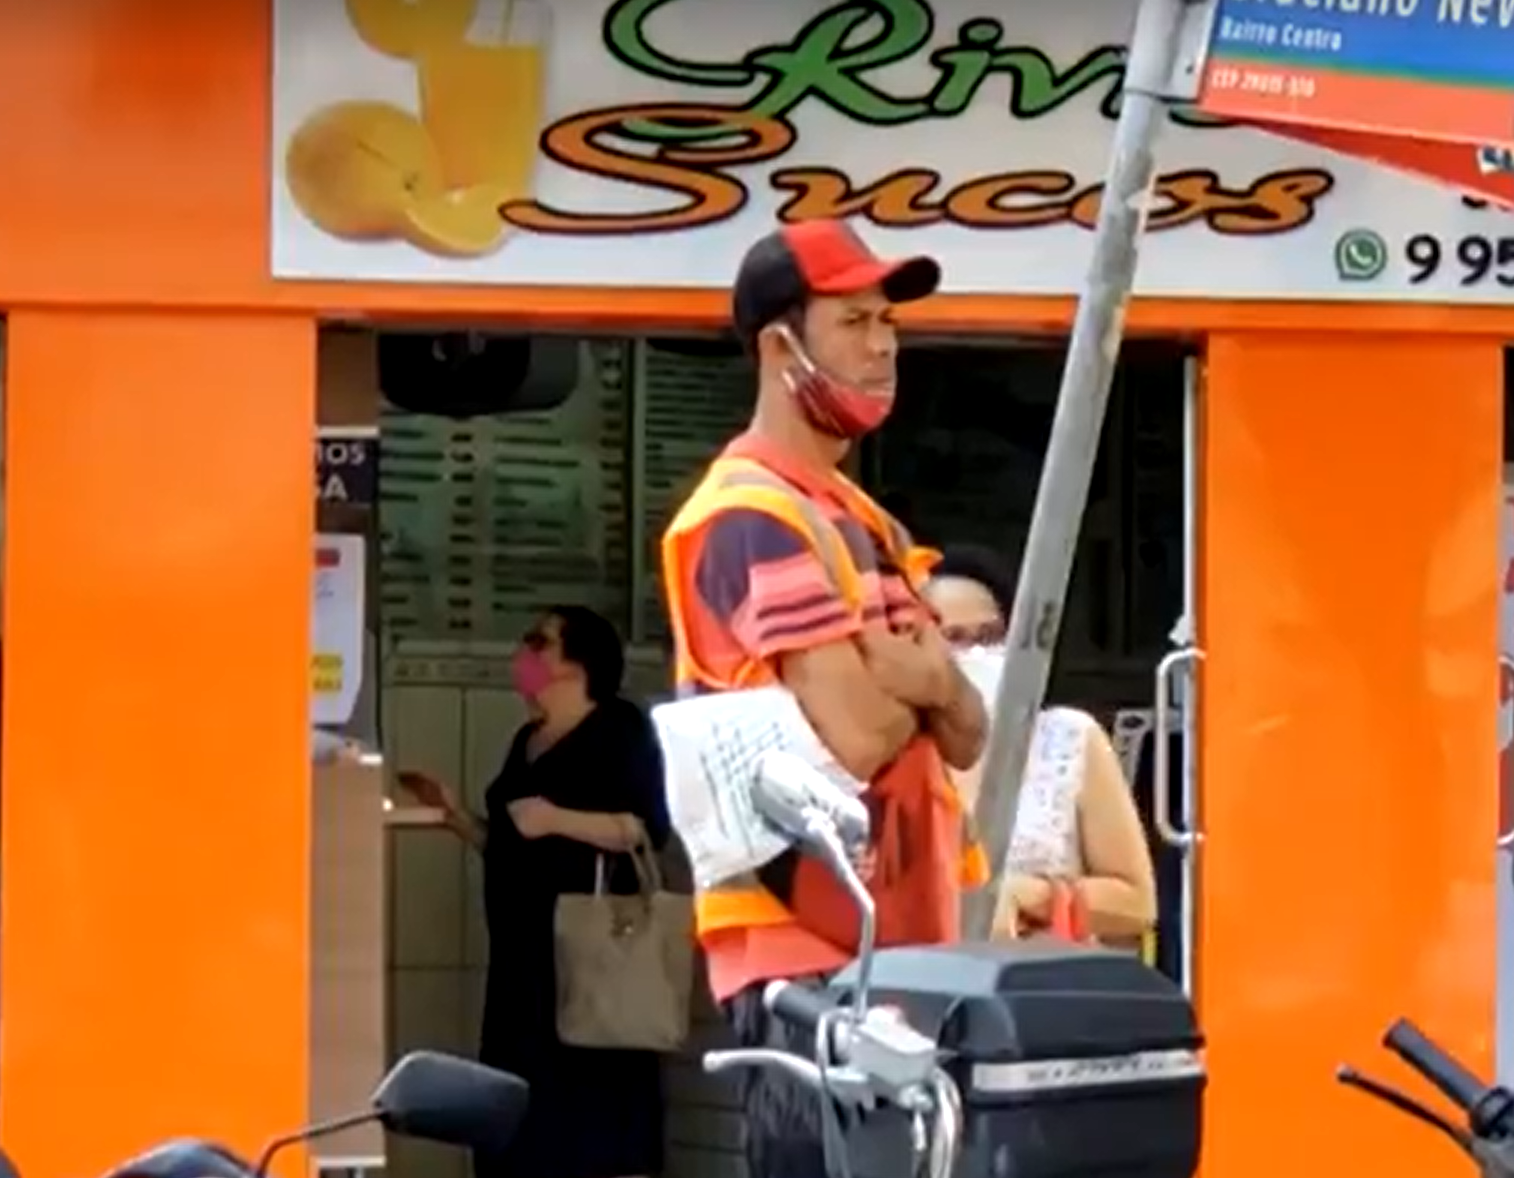mask_weared_incorrect: (748, 250, 920, 454)
